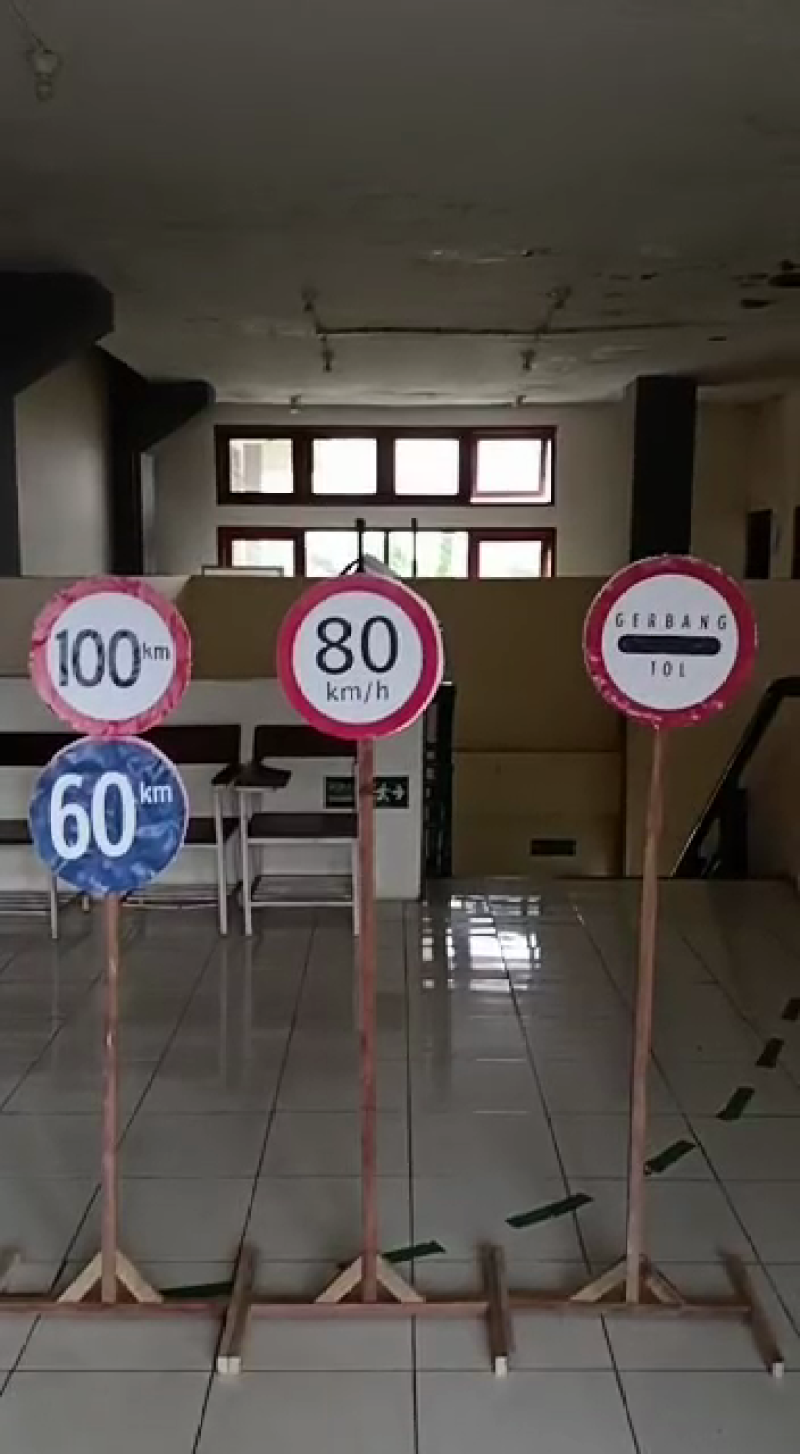batas maksimal 100kmperjam minimal 60kmperjam: (20, 564, 207, 916)
batas maksimal 80kmperjam: (274, 568, 457, 757)
gerbang tol: (570, 540, 766, 751)
